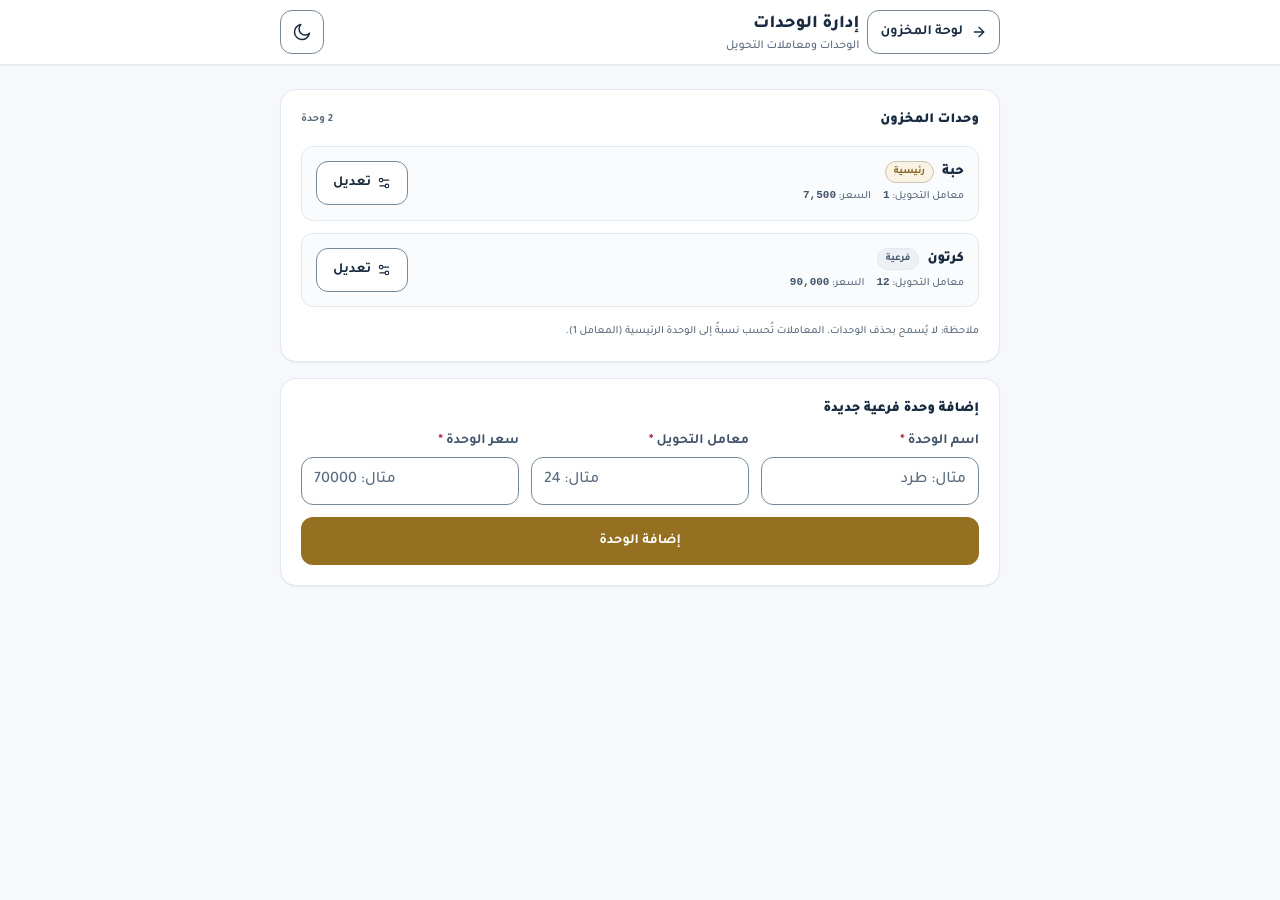
Test: StockUnitsPage — تعديل الوحدات › يمنع تعديل معامل الوحدة الرئيسية (حقل معطّل بقيمة 1)
Expected: the text "حبة" is shown, [942,162,964,182]
Click the button "تعديل" in the row of "7,500": (362, 183) [316,161,408,205]
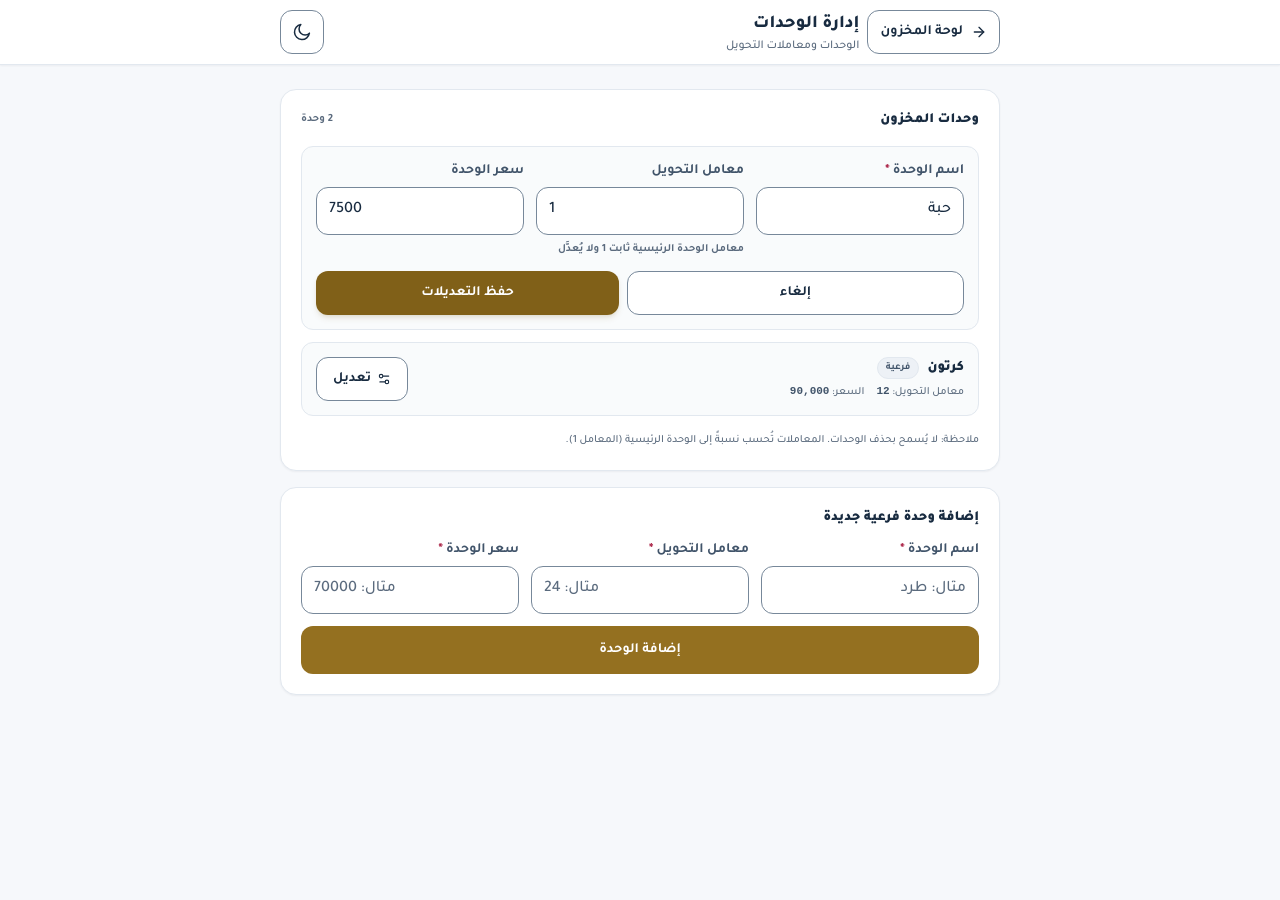
Expected: the field with id "edit-rate-10" is disabled, [536,187,744,235]
Expected: the field with id "edit-rate-10" holds "1", [536,187,744,235]
